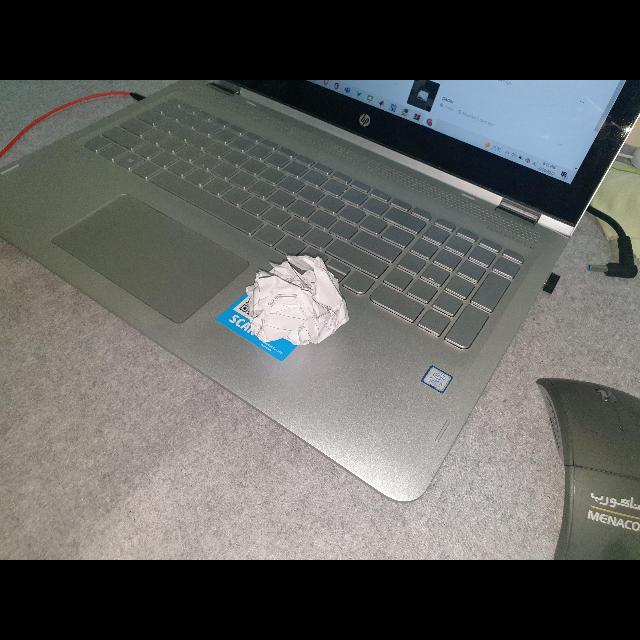scrap_paper: (240, 244, 352, 354)
